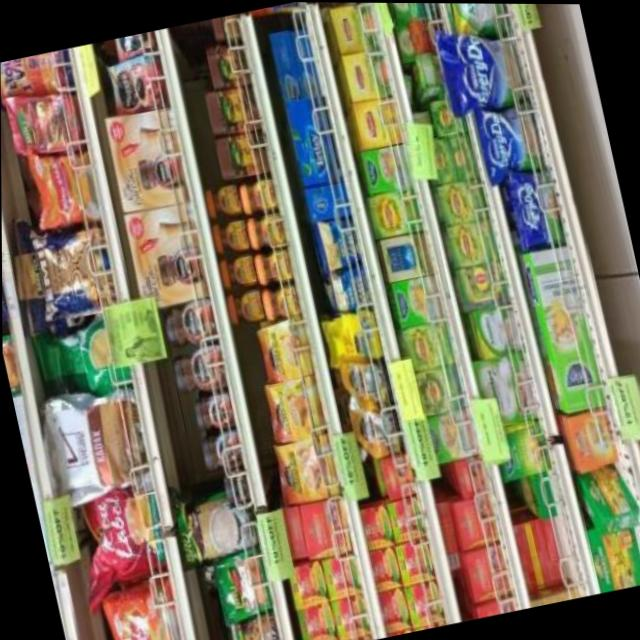Coffee: (272, 433, 339, 503), (107, 49, 170, 114), (256, 318, 315, 384), (266, 376, 327, 439), (168, 339, 228, 398), (159, 295, 218, 351), (188, 386, 235, 435), (197, 427, 243, 474), (238, 173, 279, 216), (217, 250, 258, 292), (225, 286, 267, 327), (211, 217, 251, 257), (245, 211, 285, 250), (253, 245, 294, 283), (204, 182, 242, 222), (261, 282, 301, 320), (115, 30, 156, 57), (222, 466, 251, 504)
